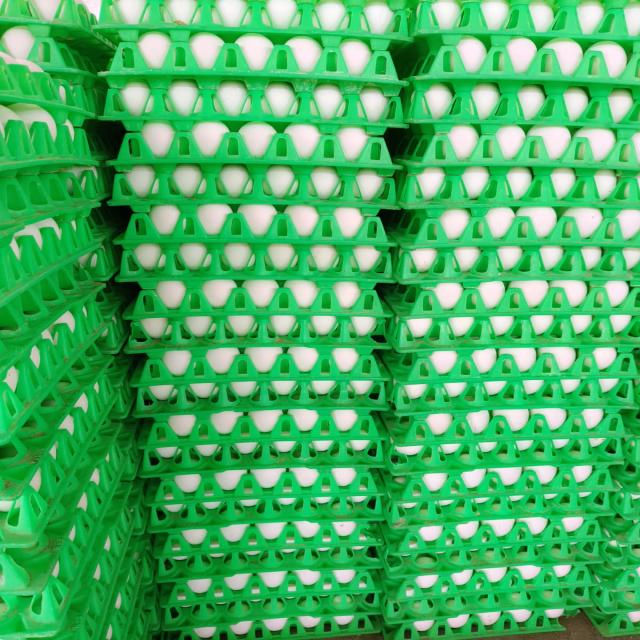egg_tray: (109, 123, 395, 212), (383, 464, 606, 576), (109, 122, 396, 206), (0, 361, 128, 546), (383, 516, 602, 623), (383, 516, 603, 621), (0, 473, 140, 638), (116, 204, 391, 286), (0, 423, 115, 594), (153, 520, 381, 606), (154, 521, 381, 606), (0, 491, 131, 638), (389, 207, 639, 284), (101, 32, 406, 95), (388, 408, 622, 490), (382, 514, 605, 600), (125, 280, 390, 352), (381, 513, 605, 598), (157, 521, 379, 606), (385, 280, 639, 352), (132, 346, 387, 416), (381, 346, 637, 414), (102, 76, 402, 134), (0, 361, 116, 511), (383, 555, 594, 636), (382, 406, 631, 474), (138, 408, 383, 477), (0, 423, 126, 554), (161, 556, 380, 631), (1, 459, 118, 599), (0, 173, 97, 340), (383, 562, 592, 638), (110, 121, 396, 176), (2, 321, 133, 440), (146, 467, 382, 532), (96, 0, 409, 49), (0, 299, 108, 440), (153, 517, 382, 583), (382, 515, 607, 582), (405, 33, 639, 97), (388, 353, 636, 413), (110, 162, 395, 213), (384, 465, 616, 526), (0, 102, 107, 234), (403, 80, 638, 138), (0, 103, 113, 222), (382, 563, 594, 624), (395, 124, 639, 176), (381, 406, 634, 455), (161, 562, 381, 618), (123, 204, 386, 246), (389, 206, 639, 250), (0, 265, 106, 368), (394, 241, 639, 285), (387, 434, 621, 480), (410, 0, 639, 47), (397, 166, 639, 210), (148, 467, 379, 512), (0, 23, 108, 116), (67, 531, 158, 640), (0, 264, 100, 361), (163, 592, 380, 632), (75, 210, 135, 354), (0, 217, 98, 305), (394, 456, 609, 494), (84, 530, 158, 640), (77, 421, 145, 536), (69, 545, 151, 640), (0, 167, 111, 235), (0, 16, 105, 87), (0, 103, 97, 176), (0, 54, 94, 126), (0, 0, 113, 55), (383, 608, 576, 640), (167, 612, 380, 640), (383, 608, 564, 640), (595, 482, 639, 608), (102, 536, 155, 640), (601, 464, 639, 579), (92, 577, 159, 640), (587, 556, 639, 636), (59, 135, 114, 209), (78, 202, 127, 282), (594, 521, 639, 606), (101, 482, 144, 568), (68, 124, 115, 202), (602, 447, 639, 546), (102, 578, 159, 640), (602, 458, 639, 553), (78, 206, 124, 282), (598, 510, 639, 591), (129, 535, 159, 637), (600, 484, 639, 560), (603, 464, 639, 544), (101, 346, 134, 430), (97, 280, 132, 355), (119, 584, 159, 640), (70, 162, 113, 208), (617, 412, 639, 499), (132, 499, 154, 584), (110, 353, 134, 430), (107, 353, 134, 420), (83, 120, 117, 168), (585, 606, 639, 636), (121, 420, 143, 490), (72, 77, 107, 120), (89, 203, 126, 241), (132, 585, 159, 637), (91, 560, 118, 606), (121, 418, 140, 481), (625, 412, 639, 473), (145, 581, 160, 631), (147, 583, 160, 631), (111, 611, 131, 640), (21, 339, 36, 364), (127, 451, 140, 476), (127, 452, 139, 476), (120, 435, 132, 458), (395, 585, 419, 596), (615, 361, 631, 377), (83, 610, 92, 636), (417, 576, 436, 588), (138, 509, 147, 529), (31, 572, 46, 584), (260, 512, 277, 522), (100, 428, 113, 441), (84, 615, 92, 635), (386, 477, 395, 494), (114, 594, 124, 609), (522, 570, 538, 579), (624, 412, 637, 423), (402, 503, 417, 512), (624, 434, 635, 446), (60, 203, 73, 213), (99, 560, 106, 578), (598, 592, 608, 604), (575, 575, 589, 583), (92, 496, 102, 507), (523, 169, 530, 183), (70, 526, 78, 538), (119, 330, 126, 343), (213, 558, 223, 567), (97, 302, 103, 317), (89, 271, 100, 279), (530, 582, 542, 589), (57, 444, 64, 456), (545, 493, 557, 500), (124, 580, 134, 588), (6, 356, 19, 362), (386, 417, 393, 428), (434, 587, 445, 594), (205, 123, 220, 128), (67, 544, 73, 556), (67, 184, 75, 193), (612, 454, 620, 463), (419, 491, 427, 499), (85, 618, 92, 626), (461, 573, 470, 579), (519, 615, 528, 621), (103, 514, 109, 523), (389, 521, 398, 527), (615, 383, 621, 392), (140, 150, 146, 159), (128, 134, 141, 138), (129, 498, 139, 503), (472, 585, 482, 590), (97, 478, 102, 488), (103, 548, 110, 555), (123, 440, 130, 447), (118, 537, 125, 544), (245, 610, 252, 617), (77, 528, 83, 536), (218, 519, 226, 525), (469, 522, 477, 528), (618, 149, 626, 155), (122, 635, 131, 640), (363, 505, 372, 510), (38, 174, 52, 177), (467, 126, 474, 132), (534, 582, 541, 588), (514, 496, 522, 501), (134, 553, 139, 561), (567, 610, 576, 614), (101, 62, 107, 68), (94, 606, 100, 612), (135, 553, 139, 562), (78, 501, 83, 508), (76, 507, 83, 512), (474, 404, 481, 409), (41, 566, 45, 574), (87, 172, 92, 178), (49, 451, 55, 456), (23, 555, 28, 561), (389, 478, 395, 483), (357, 515, 363, 520), (469, 380, 474, 386), (107, 451, 112, 457), (617, 598, 621, 605), (123, 425, 130, 429), (581, 492, 588, 496), (478, 499, 485, 503), (93, 443, 97, 450), (472, 586, 481, 589), (76, 539, 81, 544), (94, 509, 99, 514), (514, 52, 519, 57), (385, 360, 389, 366), (299, 563, 305, 567), (220, 558, 223, 566), (86, 629, 90, 634), (96, 370, 100, 375), (157, 135, 161, 140), (170, 129, 174, 134), (512, 168, 522, 170), (632, 494, 637, 498), (388, 510, 392, 515), (612, 542, 616, 547), (145, 540, 148, 546), (93, 205, 99, 208), (68, 186, 71, 192), (62, 173, 68, 176), (412, 495, 418, 498), (632, 36, 636, 40), (78, 529, 82, 533), (72, 302, 76, 306), (413, 488, 417, 492), (505, 522, 509, 526), (166, 125, 171, 128), (263, 474, 266, 479), (461, 580, 466, 583), (449, 525, 452, 530), (92, 203, 97, 206), (33, 335, 38, 338), (634, 595, 637, 600), (185, 95, 190, 98), (142, 543, 147, 546), (516, 525, 521, 528), (41, 496, 44, 501), (394, 439, 396, 446), (130, 459, 132, 466), (114, 630, 116, 637), (453, 444, 460, 446), (126, 477, 132, 479), (603, 571, 607, 574), (2, 349, 5, 353), (603, 523, 606, 527), (100, 150, 103, 154), (83, 523, 86, 527), (131, 539, 134, 543), (630, 427, 632, 433), (397, 557, 401, 560), (614, 166, 620, 168), (115, 139, 119, 142), (629, 438, 634, 440), (127, 477, 132, 479), (522, 347, 527, 349), (521, 628, 526, 630), (135, 530, 138, 533), (90, 503, 93, 506), (608, 510, 611, 513), (549, 494, 552, 497), (463, 129, 466, 132), (72, 538, 74, 542), (147, 576, 149, 580), (33, 331, 37, 333), (611, 349, 615, 351), (421, 204, 423, 208), (130, 544, 134, 546), (364, 517, 368, 519), (453, 634, 457, 636), (475, 628, 477, 632), (101, 463, 103, 467), (141, 494, 143, 498), (143, 625, 145, 628), (391, 431, 394, 433), (396, 420, 399, 422), (57, 327, 59, 330), (10, 292, 13, 294), (309, 470, 312, 472), (531, 547, 534, 549), (125, 286, 127, 289), (103, 520, 106, 522), (74, 616, 76, 619), (79, 516, 82, 518), (87, 491, 89, 494), (631, 488, 634, 490), (83, 603, 85, 606), (144, 573, 146, 576), (469, 634, 472, 636), (125, 434, 130, 435), (623, 489, 628, 490), (252, 563, 257, 564), (96, 607, 98, 609), (141, 506, 143, 508), (444, 580, 445, 584), (541, 578, 543, 580), (391, 523, 395, 524), (76, 523, 80, 524), (66, 456, 68, 458), (108, 448, 110, 450), (312, 564, 314, 566), (289, 554, 293, 555), (50, 567, 52, 569), (636, 182, 637, 186), (396, 496, 398, 498), (572, 482, 574, 484), (113, 46, 114, 50), (485, 527, 489, 528), (532, 518, 536, 519), (451, 444, 453, 446), (598, 173, 602, 174), (560, 172, 562, 174), (74, 617, 76, 619), (443, 590, 445, 592), (547, 576, 550, 577), (574, 576, 577, 577), (609, 574, 610, 577), (307, 554, 310, 555), (603, 356, 606, 357), (83, 518, 86, 519), (182, 92, 183, 95), (504, 631, 507, 632), (443, 125, 444, 128), (89, 582, 90, 584), (196, 125, 198, 126), (62, 310, 64, 311), (301, 476, 302, 478), (19, 176, 20, 178), (608, 572, 609, 574), (282, 554, 284, 555), (396, 536, 397, 538), (448, 603, 450, 604), (394, 523, 396, 524), (532, 348, 533, 350), (484, 169, 486, 170), (634, 496, 636, 497), (586, 487, 588, 488), (413, 486, 415, 487), (570, 483, 572, 484), (460, 525, 462, 526), (511, 521, 512, 523), (512, 162, 513, 164), (515, 161, 516, 163), (442, 620, 443, 621), (618, 560, 619, 561), (634, 551, 635, 552), (632, 418, 633, 419), (625, 416, 626, 417), (25, 220, 26, 221), (89, 294, 90, 295), (551, 560, 552, 561), (354, 514, 355, 515), (405, 556, 406, 557), (32, 498, 33, 499), (585, 407, 586, 408), (129, 552, 130, 552), (94, 580, 94, 581), (87, 476, 87, 476), (344, 143, 346, 143), (258, 132, 259, 132), (396, 92, 397, 92), (514, 490, 514, 490), (392, 436, 393, 436), (42, 503, 43, 503), (504, 474, 505, 474), (523, 454, 524, 454), (572, 349, 572, 350), (44, 30, 46, 30), (121, 476, 121, 479), (17, 556, 17, 557), (14, 222, 14, 224), (41, 214, 41, 216), (618, 468, 620, 468), (45, 333, 45, 335), (490, 609, 490, 610), (453, 594, 456, 594), (130, 196, 130, 197), (371, 612, 373, 612), (570, 45, 570, 46), (541, 563, 541, 563), (547, 561, 548, 561), (414, 489, 414, 490), (416, 636, 417, 636), (503, 621, 503, 621), (612, 134, 612, 134), (103, 463, 103, 466), (604, 174, 606, 174), (529, 576, 533, 576)
